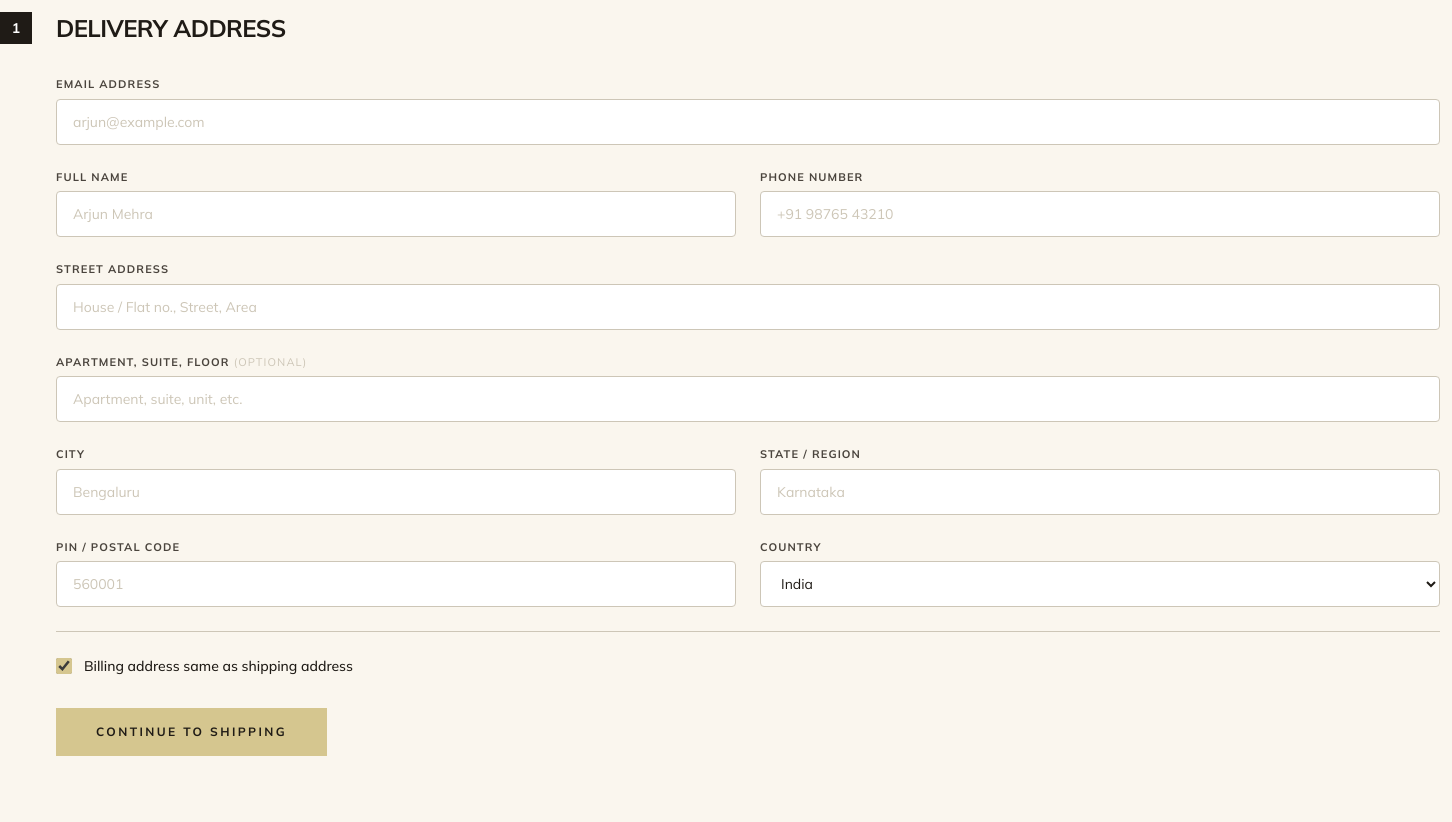
Test: AddressStep › shows validation errors when submitting an empty form
What coordinates should you click on to do the following:
click the button with test id "address-continue-button"
I would click on:
 (192, 732)
Its box is x1=56 y1=708 x2=327 y2=756.
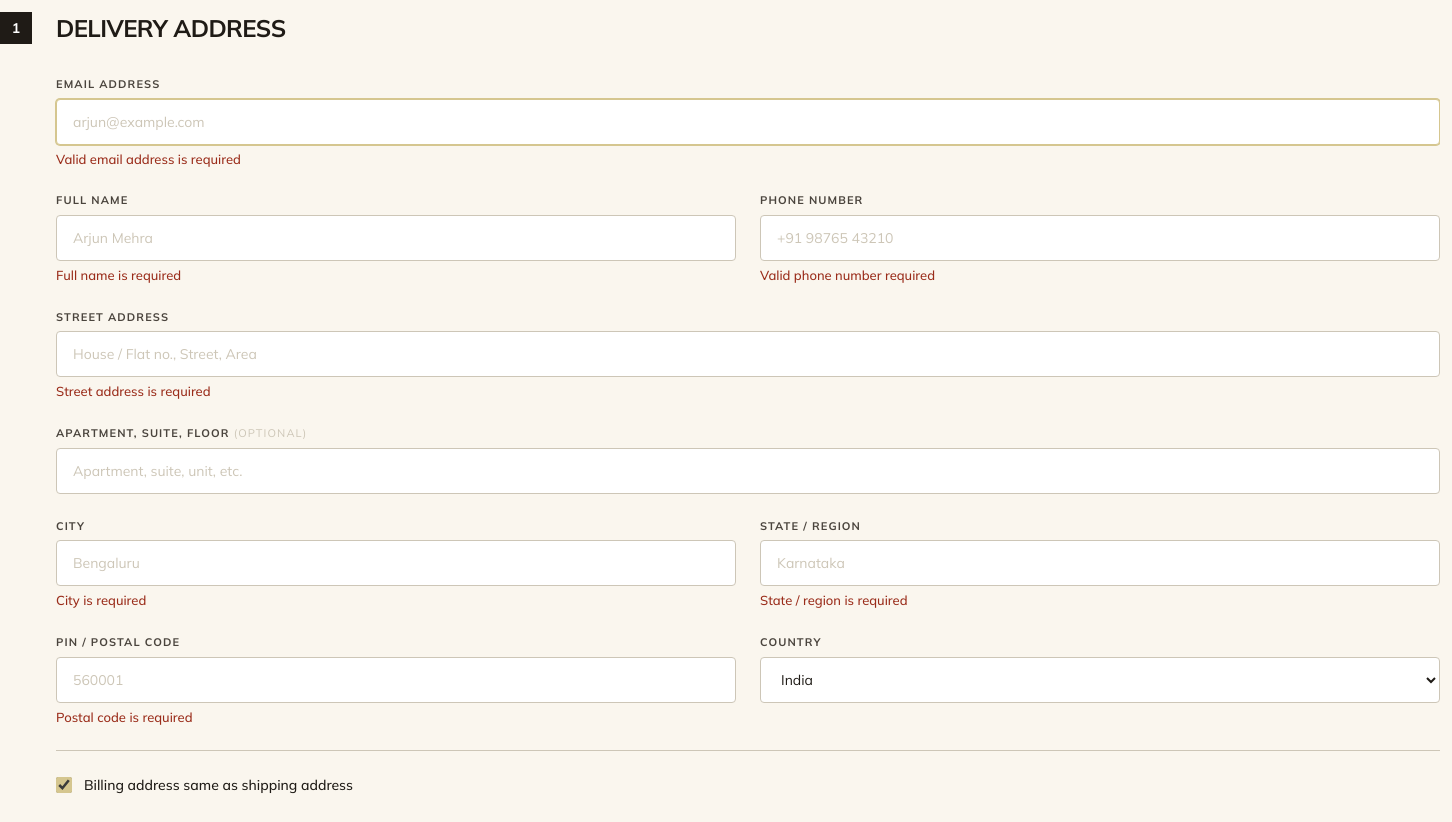
Expected: the text "Valid email address is required" is shown, x1=56 y1=150 x2=241 y2=166
Expected: the text "Full name is required" is shown, x1=56 y1=267 x2=181 y2=283
Expected: the text "Valid phone number required" is shown, x1=760 y1=267 x2=935 y2=283
